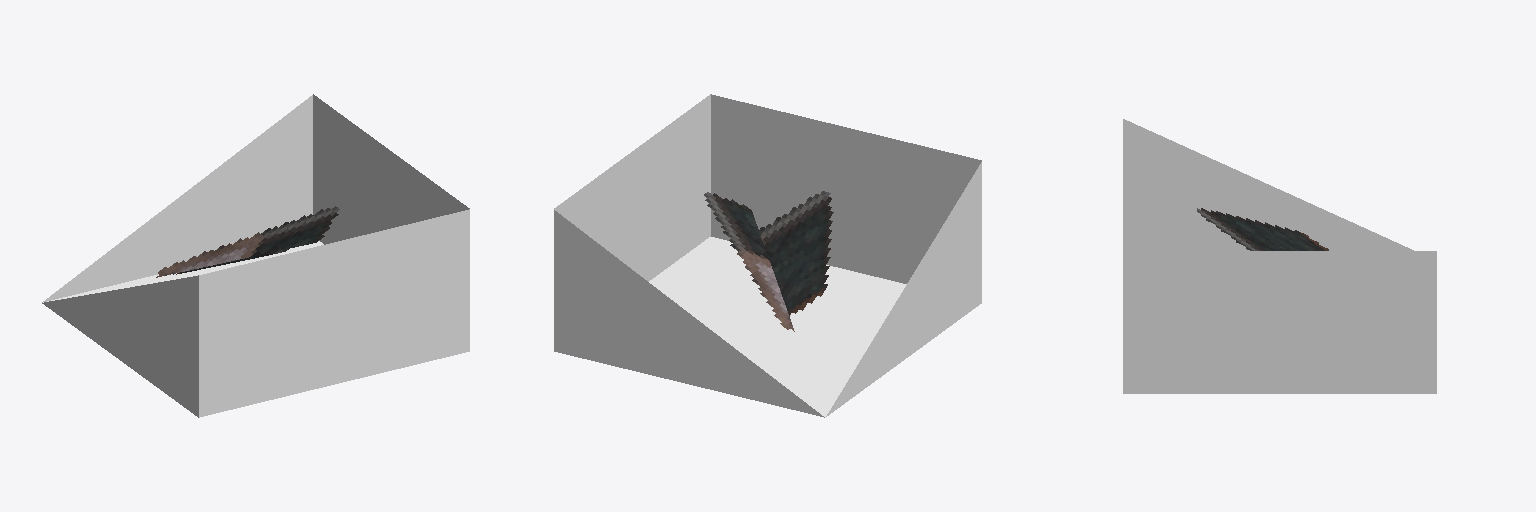
3 views of the same model, side by side, from view 1: azimuth 30°, elevation 25°; view 2: azimuth 150°, elevation 25°; view 3: azimuth 270°, elevation 25° (orthographic).
Parts seen in each view (by area): view 1: roof-side-corner-inner; view 2: roof-side-corner-inner; view 3: roof-side-corner-inner.
Part boxes in pixels (x1,y1,x2,y2): roof-side-corner-inner: (42, 94, 469, 417); roof-side-corner-inner: (554, 94, 981, 417); roof-side-corner-inner: (1123, 119, 1436, 393).
Bounding box in the file's own units: 1 × 0.5 × 1.
Materials: 3 (1 with a texture image).